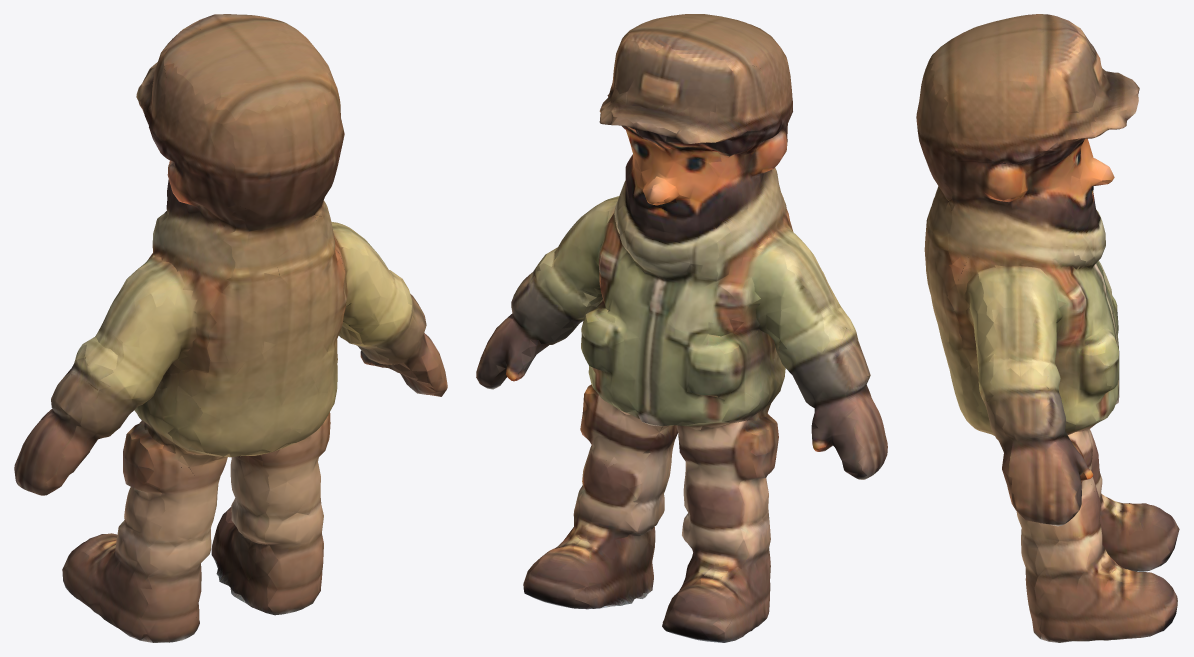
Rendered from sf3d_a_pose_candidate_v380.glb.
The picture shows the model from 3 angles, left to right: view 1: azimuth 30°, elevation 25°; view 2: azimuth 150°, elevation 25°; view 3: azimuth 270°, elevation 25°; orthographic projection. The views are drawn at different scales.
Visible parts, largest first — view 1: world; view 2: world; view 3: world.
Boxes of the visible parts, x1,y1,x2,y2 form: world: [14, 14, 447, 642]; world: [476, 14, 887, 642]; world: [916, 14, 1179, 642].
Size of the model in its own units: 0.6779 by 0.9286 by 0.3864.
Materials: 1 (1 with a texture image).
